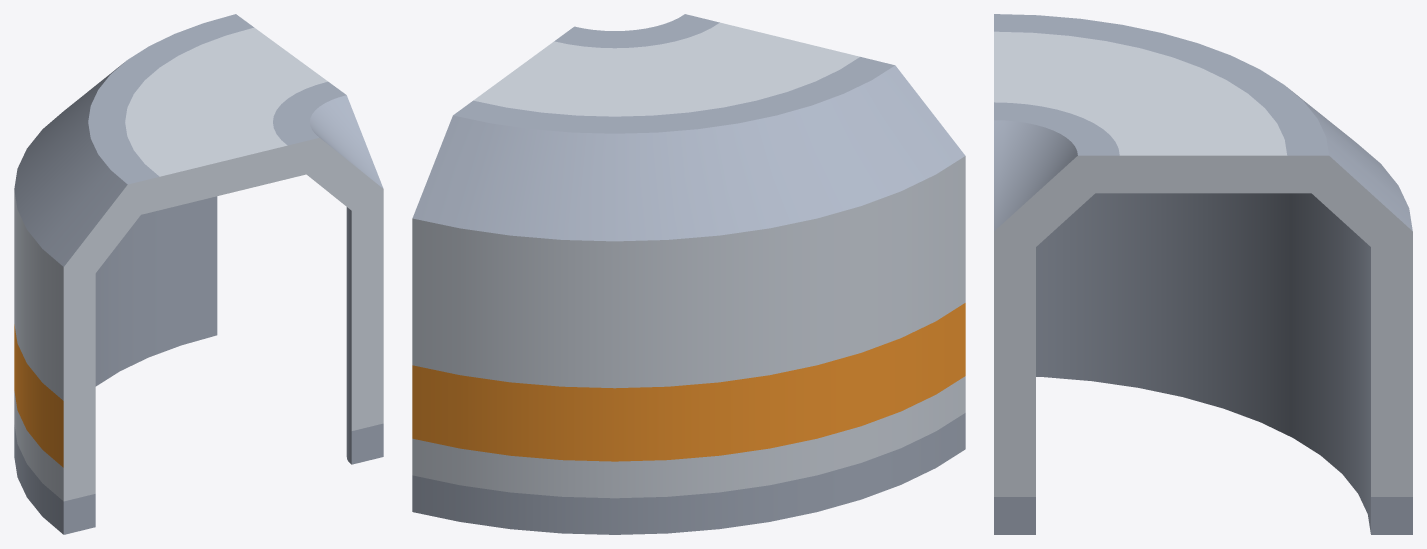
File: corridor_cornerRound.glb
3 views of the same model, side by side, from view 1: azimuth 30°, elevation 25°; view 2: azimuth 150°, elevation 25°; view 3: azimuth 270°, elevation 25° (orthographic). The views are drawn at different scales.
Visible parts, largest first — view 1: corridor_cornerRound; view 2: corridor_cornerRound; view 3: corridor_cornerRound.
Boxes of the visible parts, <box> form: corridor_cornerRound: <box>14,14,383,534</box>; corridor_cornerRound: <box>412,14,965,534</box>; corridor_cornerRound: <box>994,14,1412,534</box>.
Size of the model in its own units: 1 by 1 by 1.
